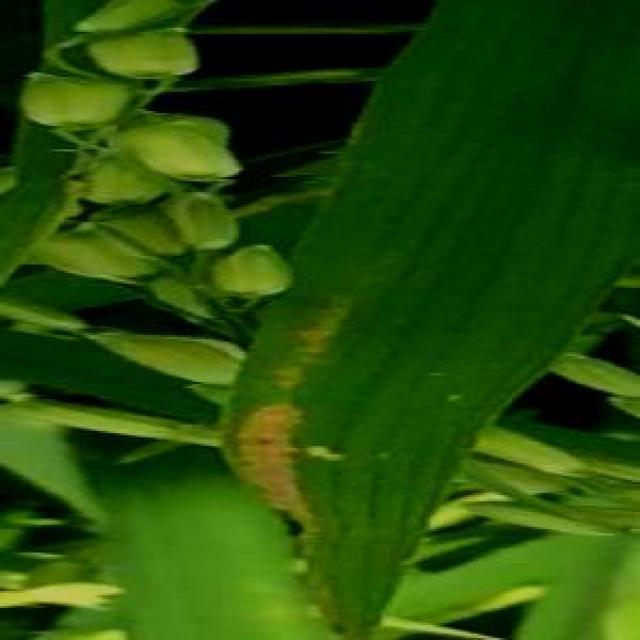Bacterial_Leaf_Blight: (226, 296, 446, 630)
